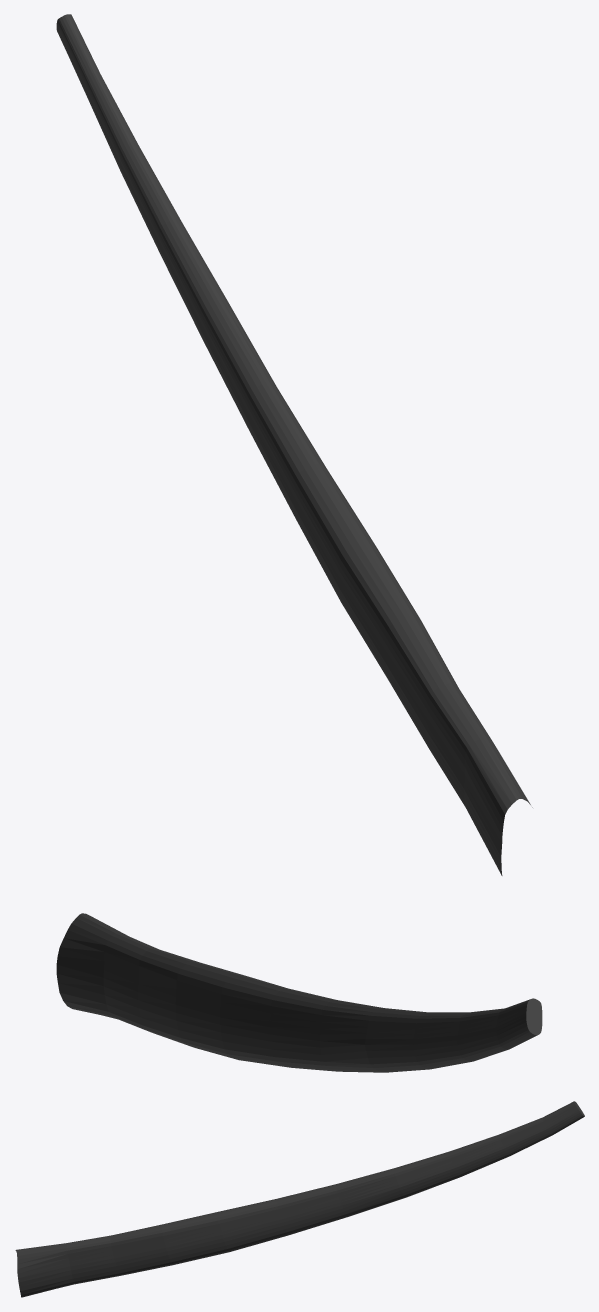
Rendered from N_9_glossopharnygeal_carotid.glb.
3 views of the same model, one above another, from view 1: azimuth 30°, elevation 25°; view 2: azimuth 210°, elevation 25°; view 3: azimuth 270°, elevation 25° (orthographic). The views are drawn at different scales.
Visible parts, largest first — view 1: N_9_glossopharnygeal_carotid; view 2: N_9_glossopharnygeal_carotid; view 3: N_9_glossopharnygeal_carotid.
Part boxes in pixels (left/top/right/bottom): N_9_glossopharnygeal_carotid: left=56, top=14, right=532, bottom=875; N_9_glossopharnygeal_carotid: left=56, top=913, right=542, bottom=1072; N_9_glossopharnygeal_carotid: left=15, top=1101, right=584, bottom=1297.
Bounding box in the file's own units: 0.000461 × 0.00143 × 0.00336.
Materials: 1 (1 with a texture image).
